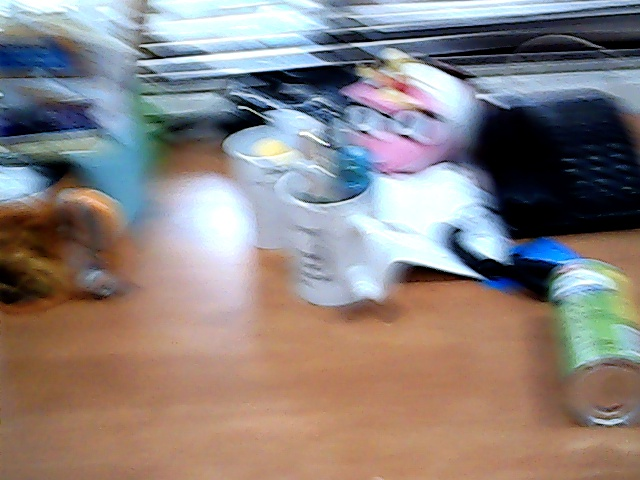Pine Juice: (535, 240, 640, 447)
